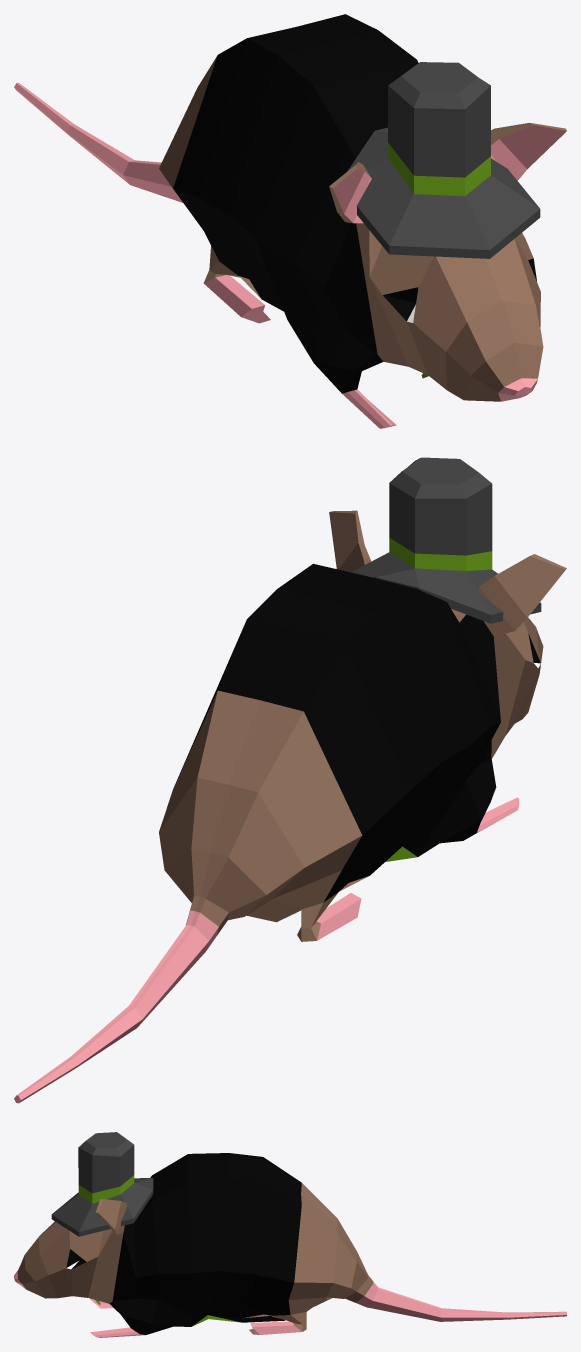
File: skins rat élégant .fbx
3 renders of one model, top to bottom at view 1: azimuth 30°, elevation 25°; view 2: azimuth 150°, elevation 25°; view 3: azimuth 270°, elevation 25°, orthographic. The views are drawn at different scales.
Parts seen in each view (by area): view 1: Cube.002; view 2: Cube.002; view 3: Cube.002.
Boxes of the visible parts, x1,y1,x2,y2 form: Cube.002: [14, 14, 566, 428]; Cube.002: [14, 457, 566, 1103]; Cube.002: [14, 1132, 566, 1337].
Size of the model in its own units: 210 by 284 by 778.
